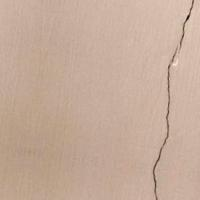crack: (142, 0, 199, 199)
